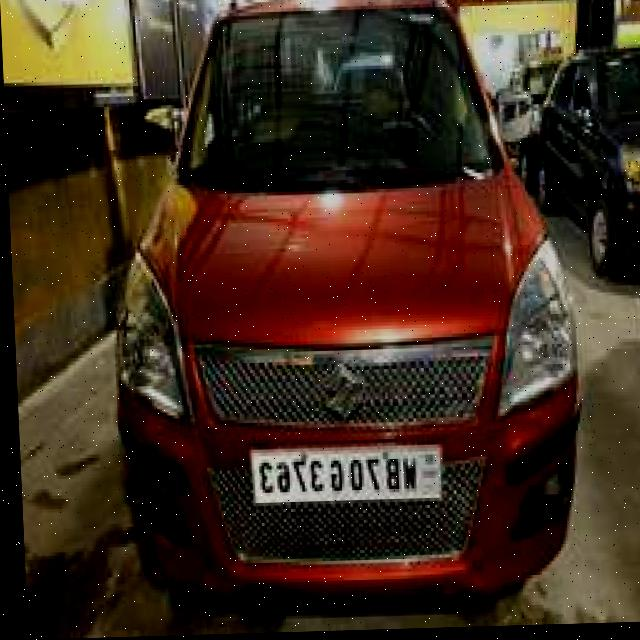plate: (245, 442, 442, 508)
